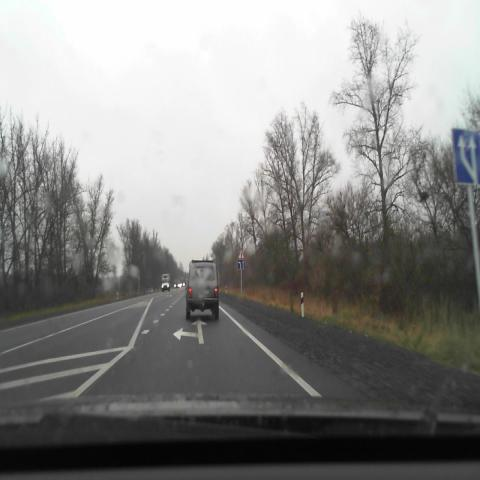5_15_3: (451, 129, 480, 184)
